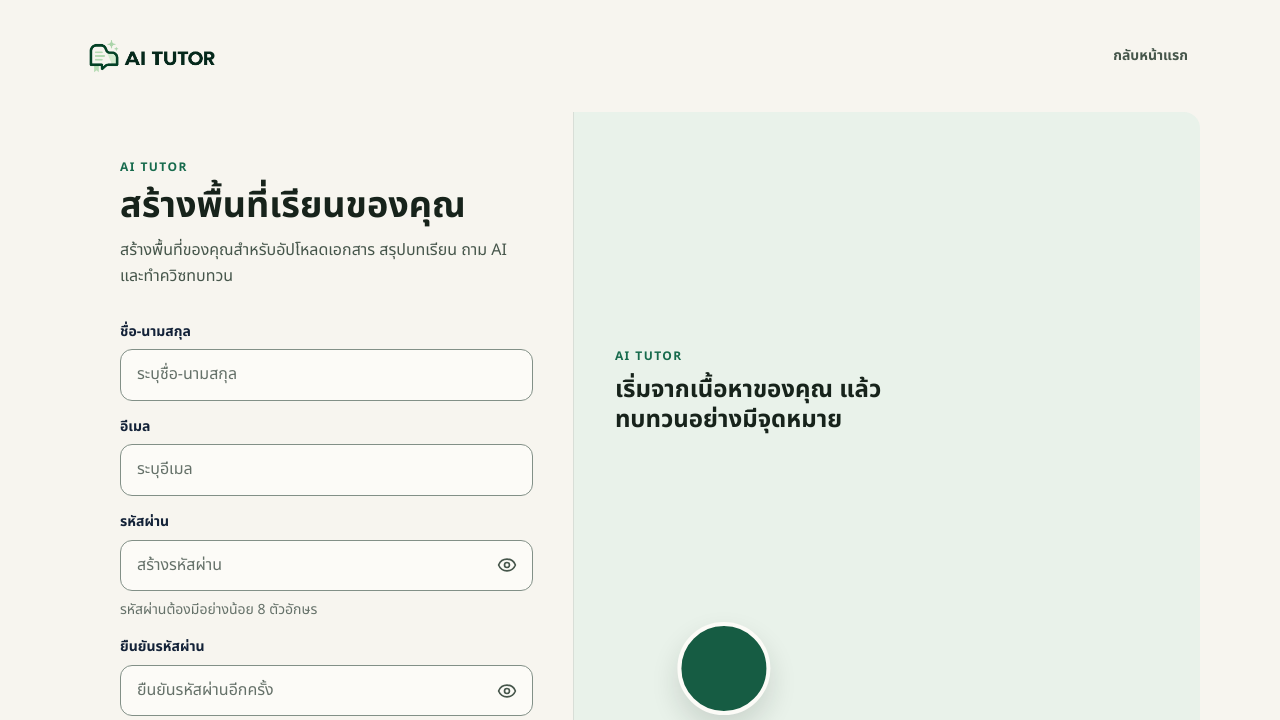
it: RegisterPage › reveals and hides both registration passwords without changing their values
In the password field labelled "รหัสผ่าน": point(326, 565) x1=120 y1=540 x2=533 y2=591, type "secure-pass"
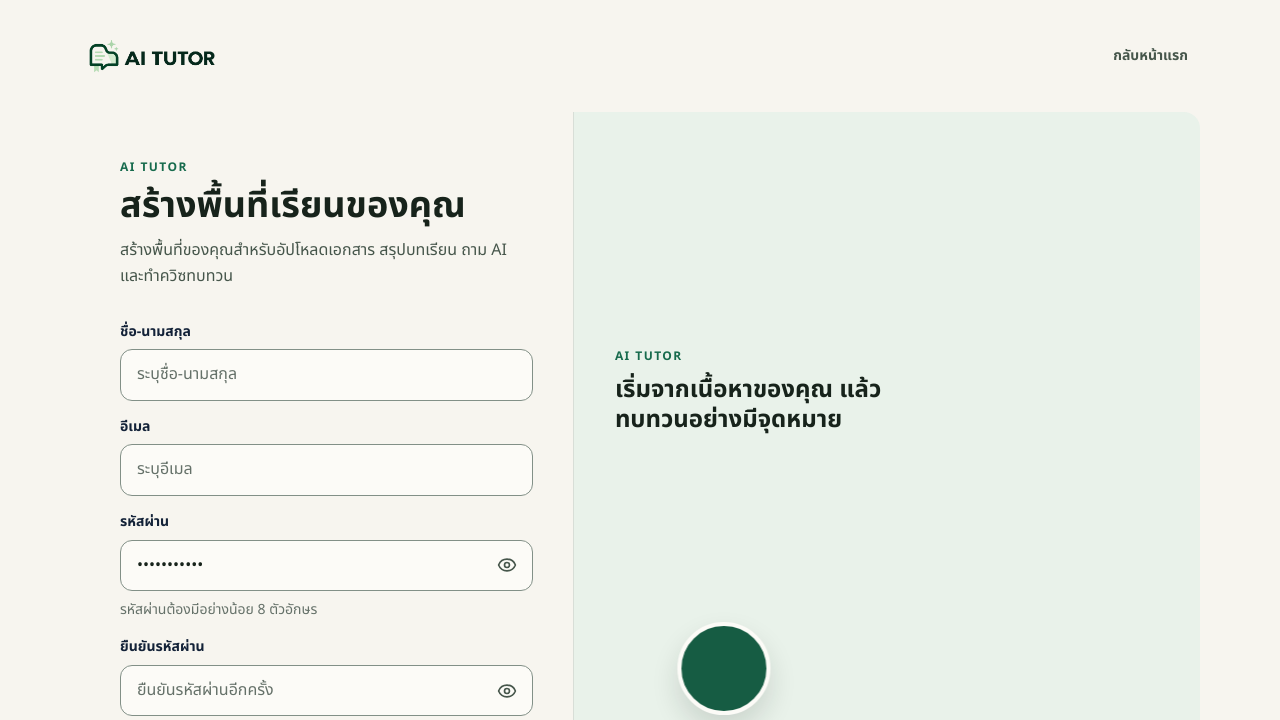
In the password field labelled "ยืนยันรหัสผ่าน": point(326, 690) x1=120 y1=665 x2=533 y2=716, type "secure-pass"
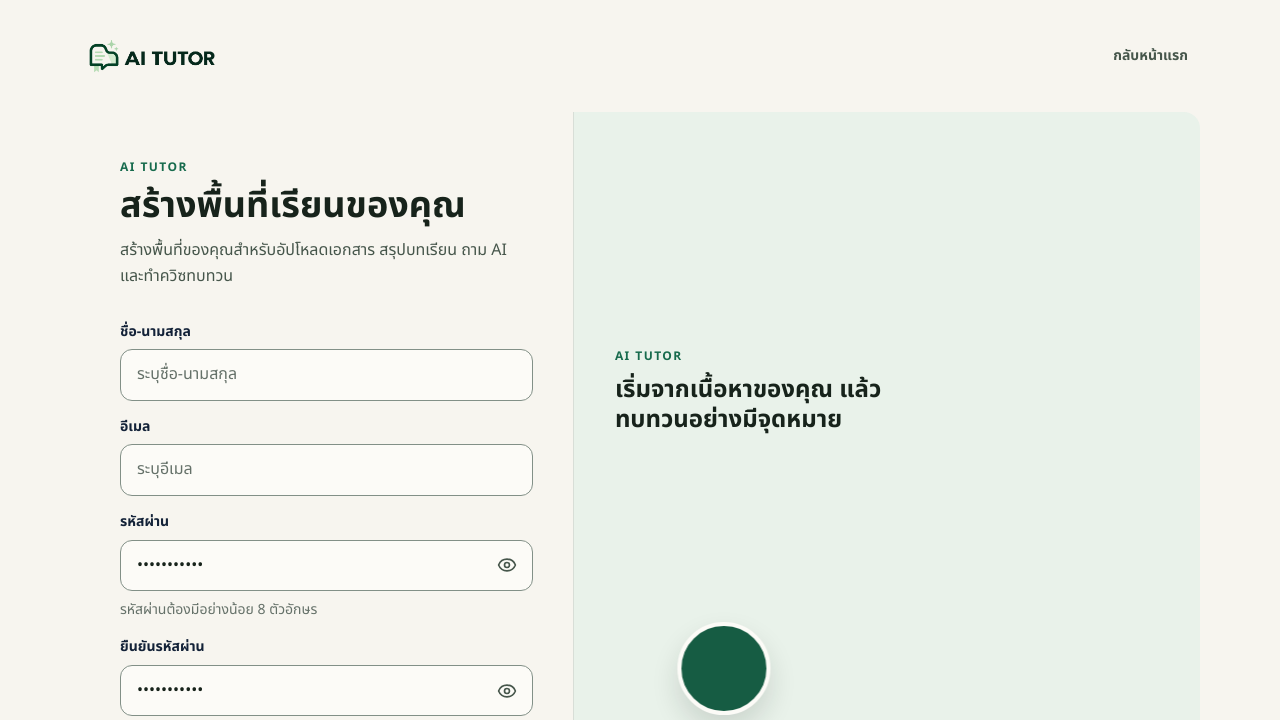
Click the 1st button named "แสดงรหัสผ่าน": point(507, 565) x1=485 y1=543 x2=529 y2=587
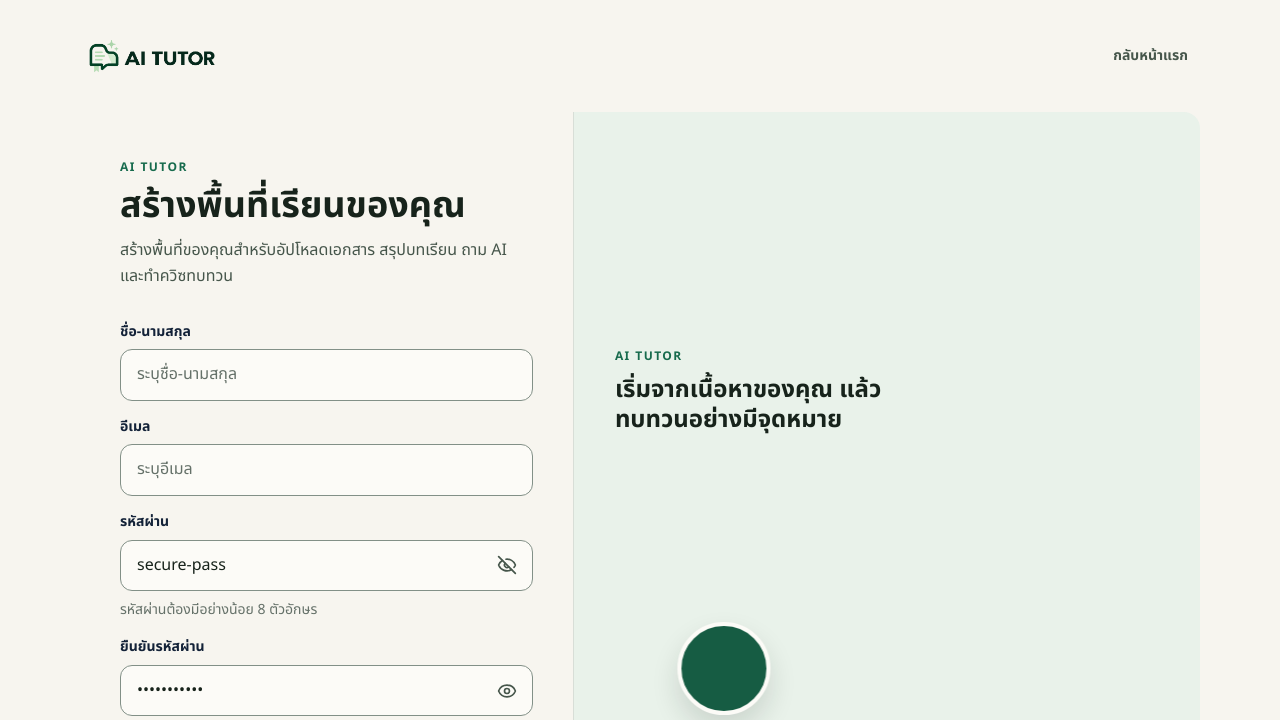
Click the button named "แสดงรหัสผ่าน": point(507, 690) x1=485 y1=668 x2=529 y2=712
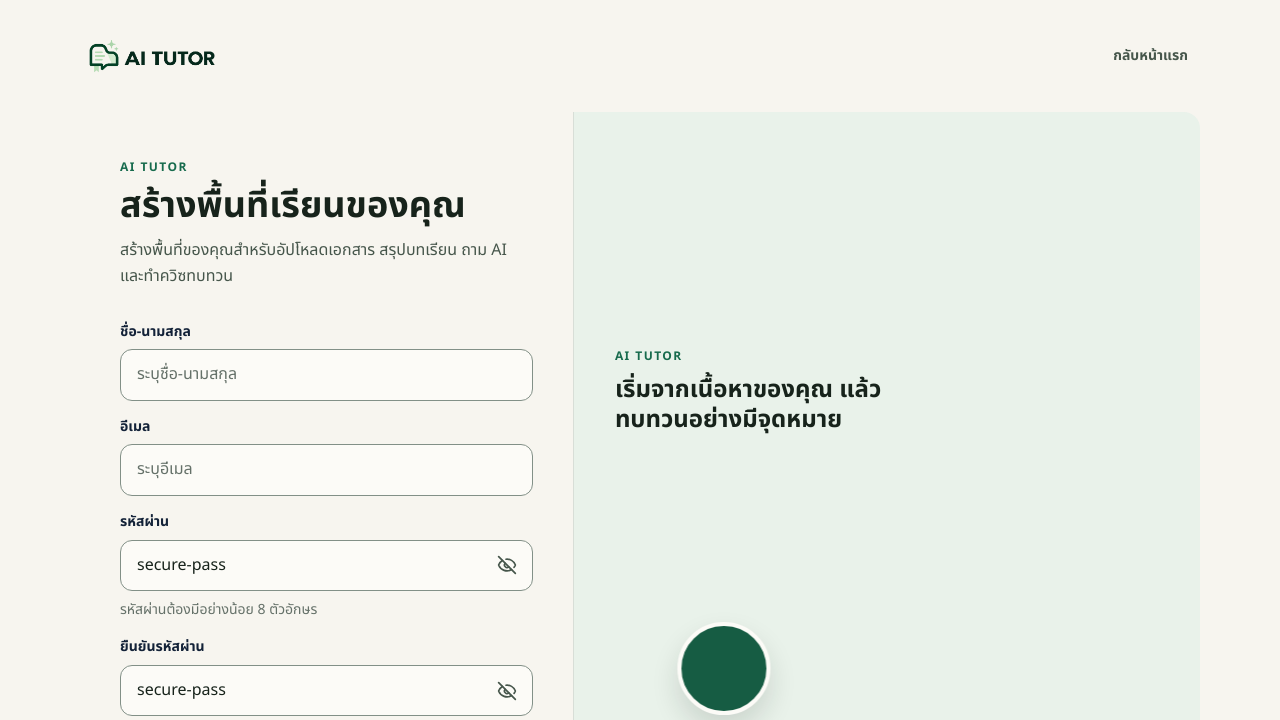
Now the field labelled "รหัสผ่าน" shows its text, box x1=120 y1=540 x2=533 y2=591
Now the field labelled "ยืนยันรหัสผ่าน" shows its text, box x1=120 y1=665 x2=533 y2=716
